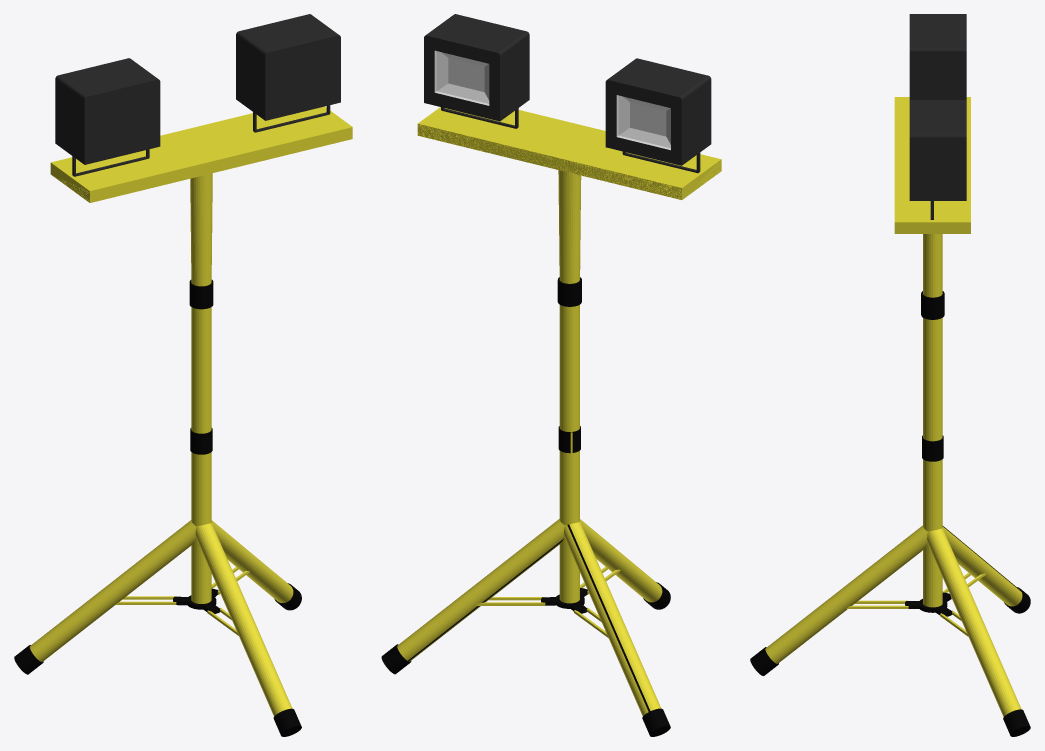
File: MESH_Folgorazione_IlluminazioneConStand.fbx
3 views of the same model, side by side, from view 1: azimuth 30°, elevation 25°; view 2: azimuth 150°, elevation 25°; view 3: azimuth 270°, elevation 25° (orthographic). The views are drawn at different scales.
Visible parts, largest first — view 1: TripodLamp; view 2: TripodLamp; view 3: TripodLamp.
Part boxes in pixels (x1,y1,x2,y2): TripodLamp: [14, 14, 352, 736]; TripodLamp: [381, 14, 721, 736]; TripodLamp: [750, 14, 1030, 736].
Bounding box in the file's own units: 137 × 282 × 120.
